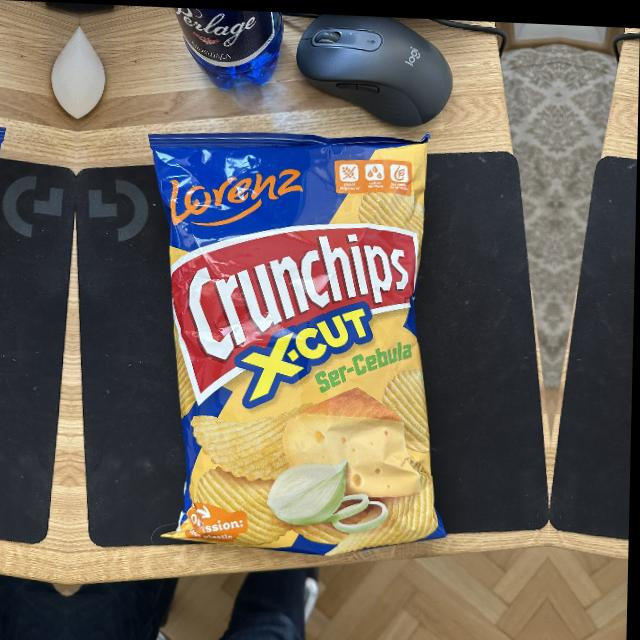crunchips: (173, 221, 421, 405)
